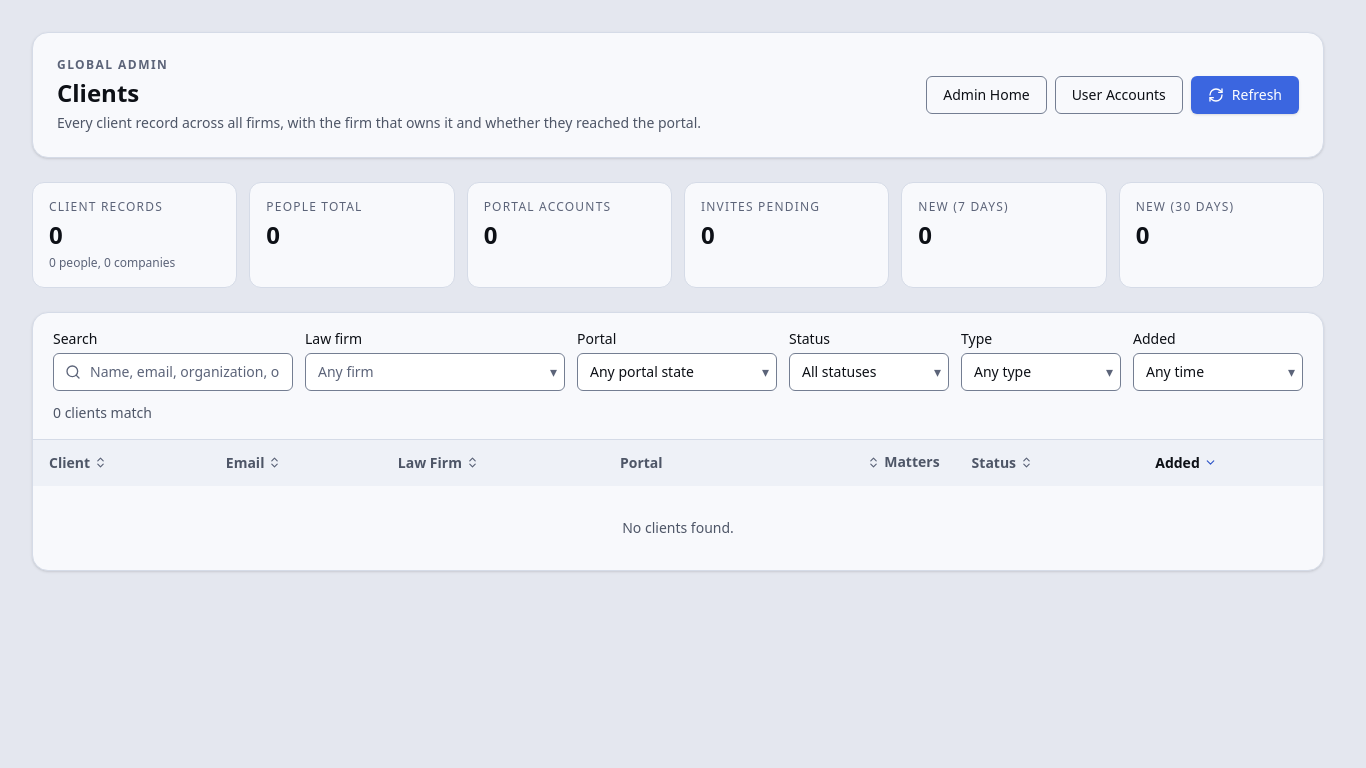
Test: AdminClientsPage search race › keeps the newest search's rows, even when an earlier search's slower response arrives after it
In the field with placeholder "Name, email, organization, or firm...": point(173, 372) 53,353 -> 293,391, type "sm"
Wait 350 ms
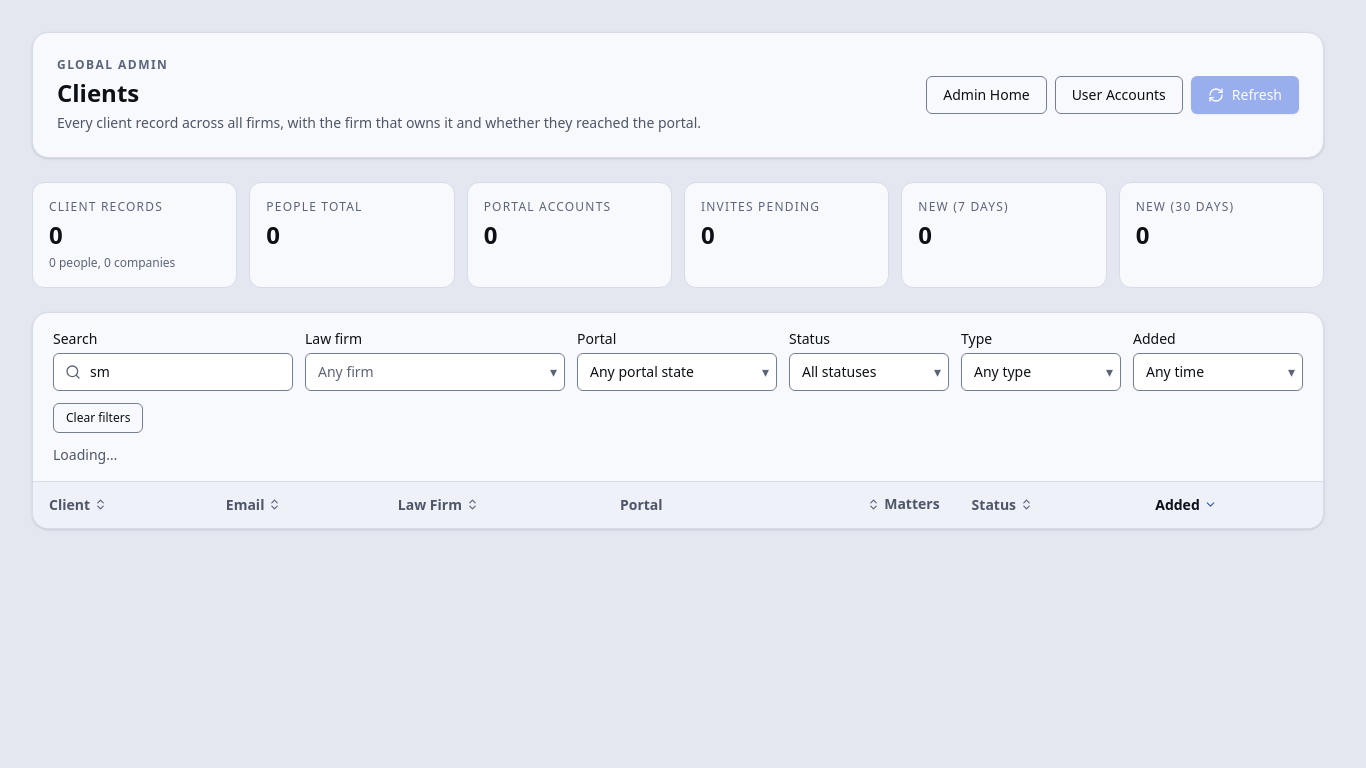
Replace the text in the field with placeholder "Name, email, organization, or firm..." with "smith": point(173, 372) 53,353 -> 293,391
Wait 860 ms
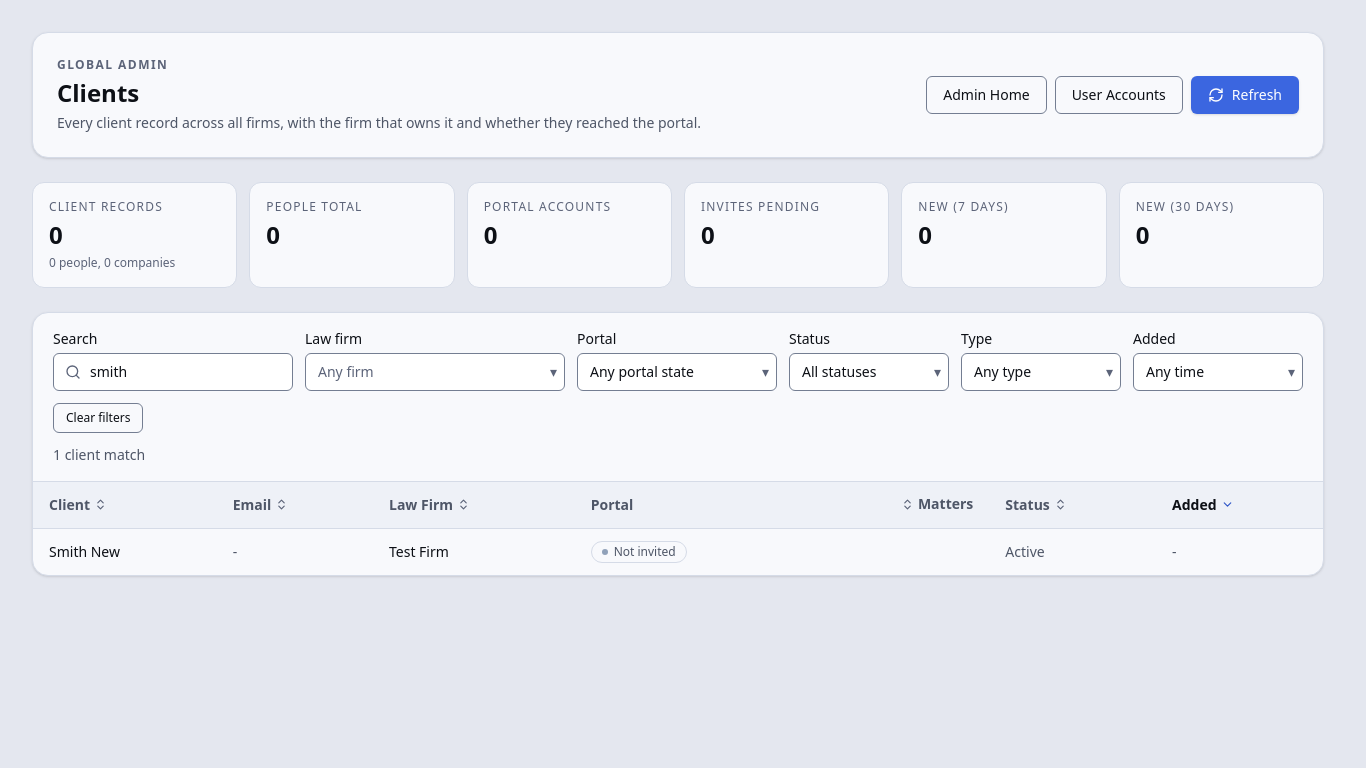
expect the text "Smith New" is shown: met, box 49,542 -> 120,562
